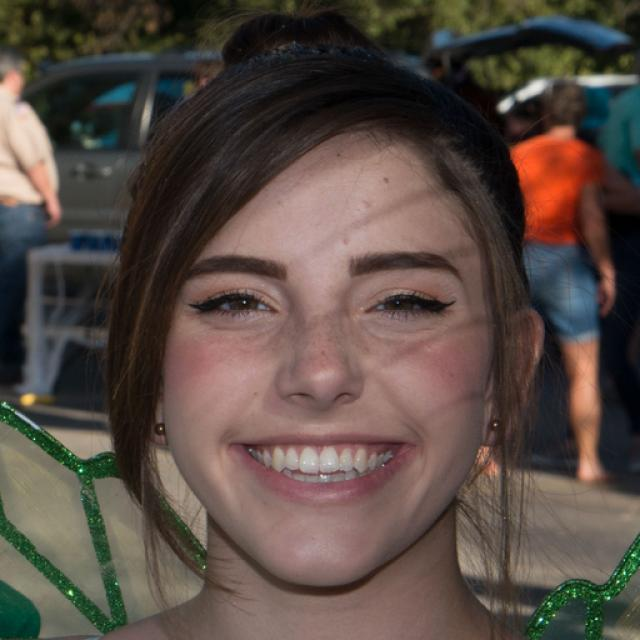happy: (163, 118, 486, 588)
